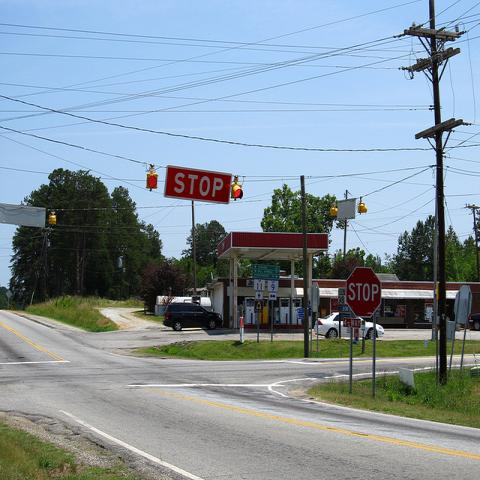car: (317, 312, 384, 340), (163, 304, 222, 331), (468, 312, 479, 332)
